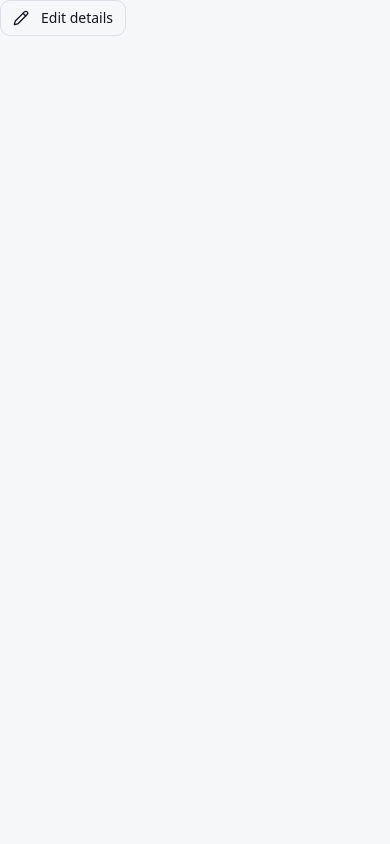
Test: editing team contact details › loads and updates address and both phone numbers
Later steps or results of the test are not shown.
Click the button "Edit details" at [63, 18], box [0,0,126,36]
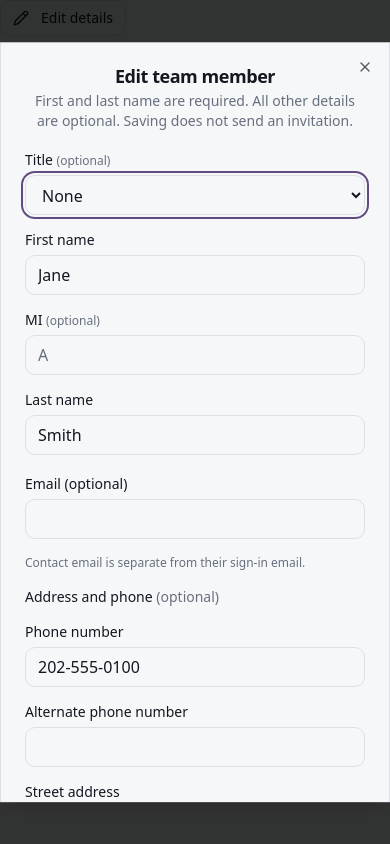
Expected: the field labelled "Phone number" holds "202-555-0100", [25,647,365,687]
